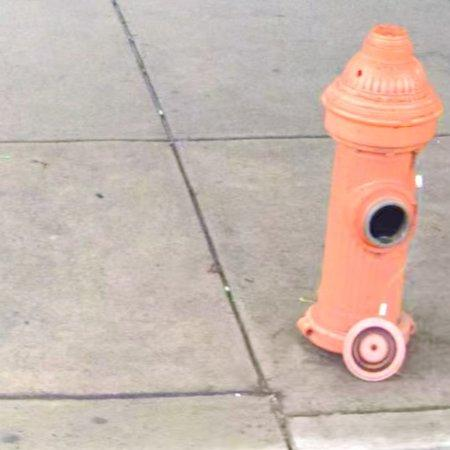a fire hydrant: (298, 24, 444, 382)
